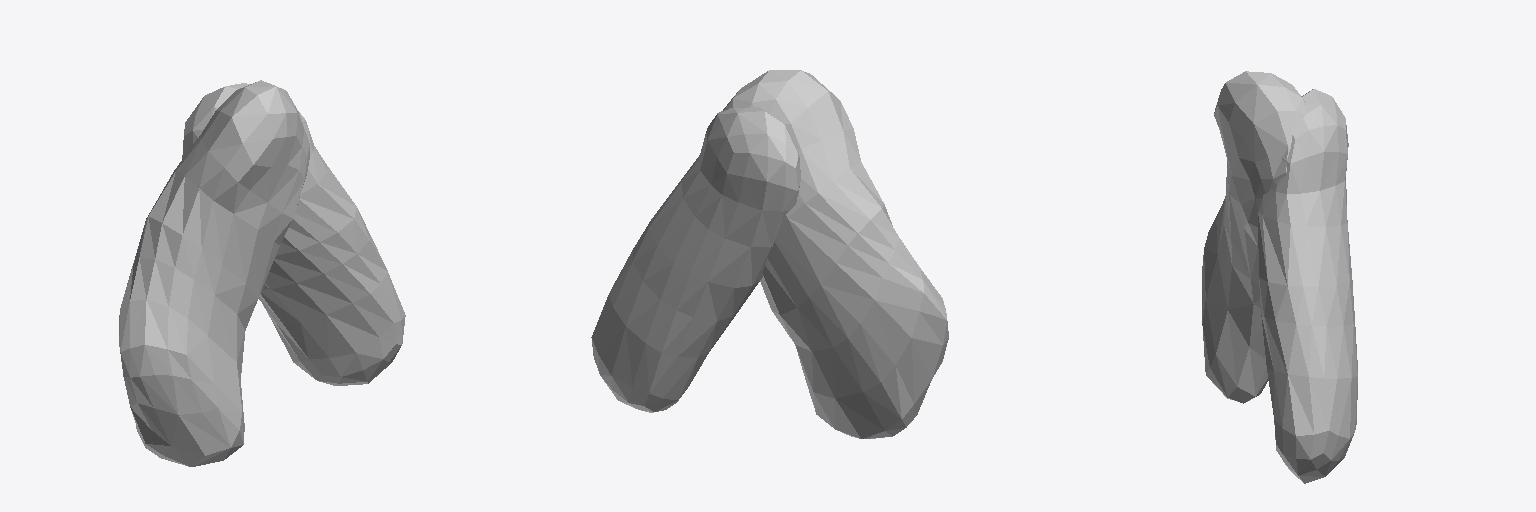
Rendered from rock_door.obj.
3 renders of one model, left to right at view 1: azimuth 30°, elevation 25°; view 2: azimuth 150°, elevation 25°; view 3: azimuth 270°, elevation 25°, orthographic.
Visible parts, largest first — view 1: [Imported]_obj11_obj11, [Imported]_obj12.001_obj12; view 2: [Imported]_obj11_obj11, [Imported]_obj12.001_obj12; view 3: [Imported]_obj12.001_obj12, [Imported]_obj11_obj11.
Boxes of the visible parts, box(x1,y1,x2,y2) form: [Imported]_obj11_obj11: box(119, 80, 309, 466); [Imported]_obj12.001_obj12: box(182, 83, 405, 385); [Imported]_obj11_obj11: box(723, 70, 948, 438); [Imported]_obj12.001_obj12: box(591, 107, 800, 412); [Imported]_obj12.001_obj12: box(1258, 89, 1357, 483); [Imported]_obj11_obj11: box(1202, 71, 1305, 403).
Size of the model in its own units: 12.32 by 13.22 by 5.3.